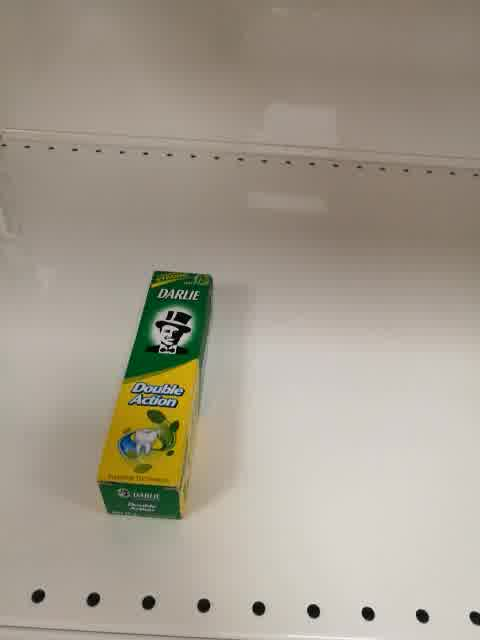toothpaste: (96, 269, 214, 523)
